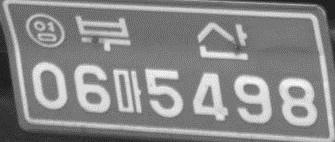0: (30, 60, 68, 110)
4: (191, 71, 228, 122)
5: (144, 68, 184, 117)
6: (73, 64, 111, 113)
8: (278, 75, 318, 127)
9: (233, 73, 274, 125)
마: (112, 69, 143, 113)
부산_D: (74, 13, 249, 61)
영: (25, 12, 65, 48)
